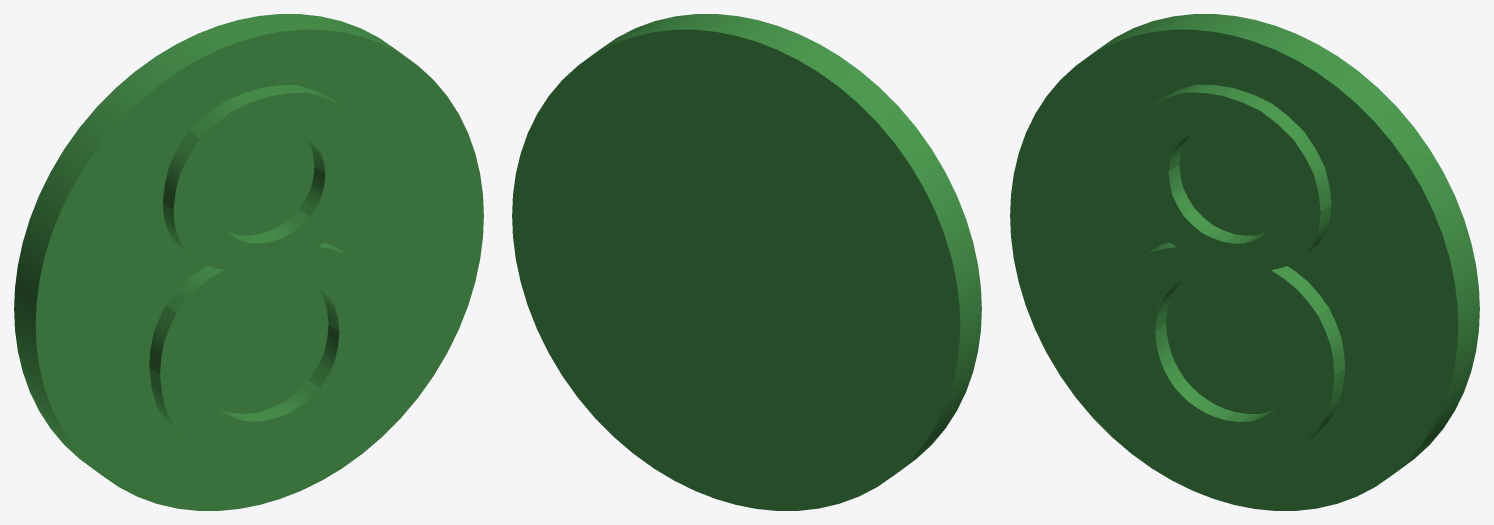
The model's file is disk8.fbx.
3 renders of one model, left to right at view 1: azimuth 30°, elevation 25°; view 2: azimuth 150°, elevation 25°; view 3: azimuth 330°, elevation 25°, orthographic.
Parts seen in each view (by area): view 1: Body1; view 2: Body1; view 3: Body1.
Part boxes in pixels (box(x1,y1,x2,y2)): Body1: box(14, 14, 483, 510); Body1: box(512, 14, 981, 510); Body1: box(1010, 14, 1479, 510).
Bounding box in the file's own units: 1200 × 1200 × 150.
